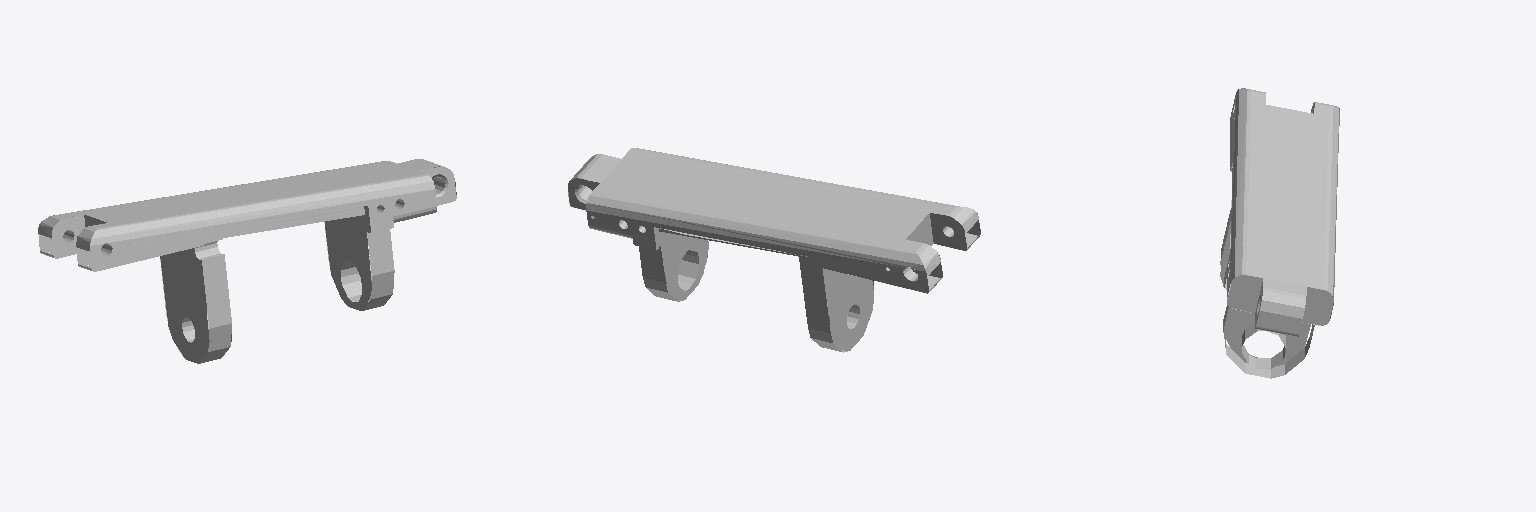
Rendered from handl_finger_middle1_joint.obj.
3 views of the same model, side by side, from view 1: azimuth 30°, elevation 25°; view 2: azimuth 150°, elevation 25°; view 3: azimuth 270°, elevation 25° (orthographic).
Size of the model in its own units: 0.0495 by 0.0202 by 0.0136.